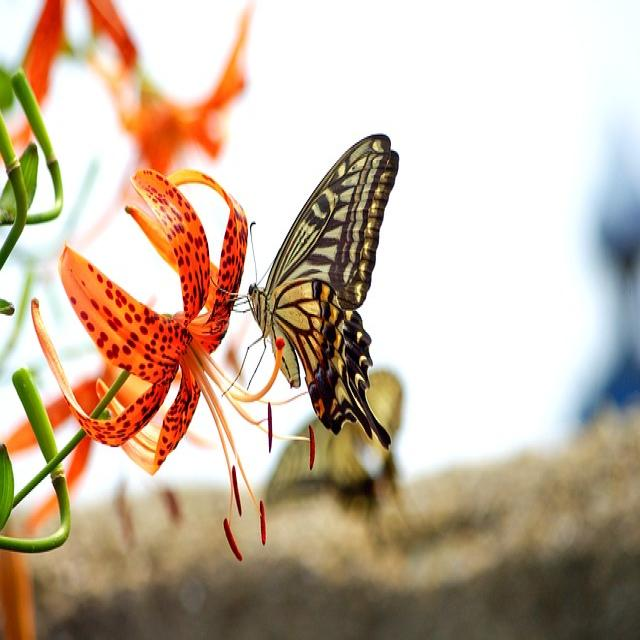butterfly: (247, 133, 400, 477)
